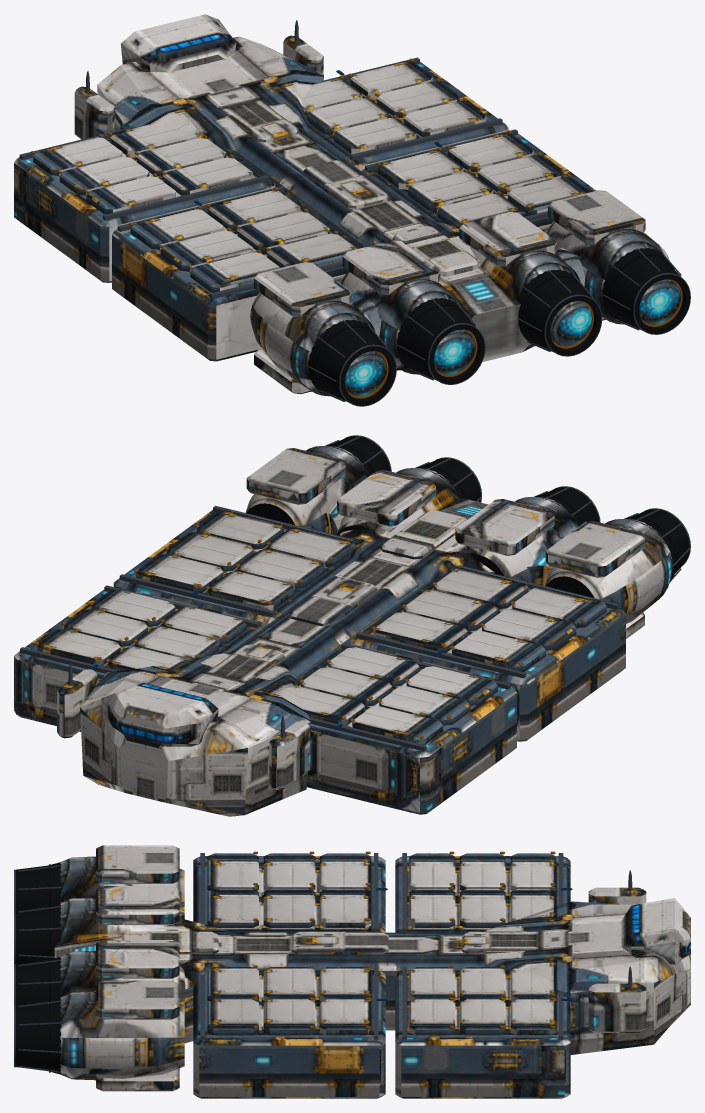
File: authority-freighter.obj
3 renders of one model, top to bottom at view 1: azimuth 30°, elevation 25°; view 2: azimuth 150°, elevation 25°; view 3: azimuth 270°, elevation 25°, orthographic. The views are drawn at different scales.
Parts seen in each view (by area): view 1: spine_|_continuous_authority_carrier_keel, structure.port.2_|_cargo_bank_frame, structure.port.1_|_cargo_bank_frame, spine_|_raised_inspection_spine, enginecase.1_|_pressure_casing, bridge_|_faceted_command_cabin, engine.2_|_hollow_nozzle, engine.4_|_hollow_nozzle, engine.1_|_hollow_nozzle, engine.3_|_hollow_nozzle, armor.engine.2_|_upper_cowl, armor.engine.4_|_upper_cowl (+41 smaller); view 2: spine_|_continuous_authority_carrier_keel, structure.port.1_|_cargo_bank_frame, structure.port.2_|_cargo_bank_frame, spine_|_raised_inspection_spine, bridge_|_faceted_command_cabin, enginecase.1_|_pressure_casing, structure.starboard.1_|_cargo_bank_frame, armor.engine.4_|_upper_cowl, armor.engine.2_|_upper_cowl, armor.engine.1_|_upper_cowl, armor.engine.3_|_upper_cowl, enginecase.4_|_pressure_casing (+37 smaller); view 3: spine_|_continuous_authority_carrier_keel, structure.starboard.2_|_cargo_bank_frame, structure.starboard.1_|_cargo_bank_frame, enginecase.4_|_pressure_casing, spine_|_raised_inspection_spine, bridge_|_faceted_command_cabin, armor.engine.4_|_upper_cowl, armor.engine.1_|_upper_cowl, armor.engine.3_|_upper_cowl, armor.engine.2_|_upper_cowl, structure.port.2_|_cargo_bank_frame, engine.4_|_hollow_nozzle (+38 smaller).
Part boxes in pixels (x1,y1,x2,y2): spine_|_continuous_authority_carrier_keel: (97,36,585,370); structure.port.2_|_cargo_bank_frame: (112,190,362,361); structure.port.1_|_cargo_bank_frame: (14,139,275,282); spine_|_raised_inspection_spine: (222,100,479,276); enginecase.1_|_pressure_casing: (250,292,375,396); bridge_|_faceted_command_cabin: (120,14,236,72); engine.2_|_hollow_nozzle: (396,298,484,384); engine.4_|_hollow_nozzle: (602,248,690,333); engine.1_|_hollow_nozzle: (308,319,395,405); engine.3_|_hollow_nozzle: (517,269,601,355); armor.engine.2_|_upper_cowl: (342,240,440,295); armor.engine.4_|_upper_cowl: (548,190,645,245); spine_|_continuous_authority_carrier_keel: (80,488,563,816); structure.port.1_|_cargo_bank_frame: (296,647,516,814); structure.port.2_|_cargo_bank_frame: (350,574,625,741); spine_|_raised_inspection_spine: (207,510,466,681); bridge_|_faceted_command_cabin: (101,683,218,747); enginecase.1_|_pressure_casing: (545,519,672,623); structure.starboard.1_|_cargo_bank_frame: (14,589,263,731); armor.engine.4_|_upper_cowl: (246,448,345,504); armor.engine.2_|_upper_cowl: (455,499,554,555); armor.engine.1_|_upper_cowl: (545,521,644,577); armor.engine.3_|_upper_cowl: (337,470,435,526); enginecase.4_|_pressure_casing: (245,446,369,533); spine_|_continuous_authority_carrier_keel: (54,901,690,1054); structure.starboard.2_|_cargo_bank_frame: (193,969,385,1098); structure.starboard.1_|_cargo_bank_frame: (395,969,570,1098); enginecase.4_|_pressure_casing: (60,992,184,1080); spine_|_raised_inspection_spine: (122,931,538,954); bridge_|_faceted_command_cabin: (621,898,690,964); armor.engine.4_|_upper_cowl: (96,980,179,1019); armor.engine.1_|_upper_cowl: (96,845,179,883); armor.engine.3_|_upper_cowl: (96,940,179,978); armor.engine.2_|_upper_cowl: (96,886,179,924); structure.port.2_|_cargo_bank_frame: (193,856,385,932); engine.4_|_hollow_nozzle: (15,997,61,1074).
Size of the model in its own units: 11.72 by 3.13 by 17.85.
Materials: 7 (2 with a texture image).
